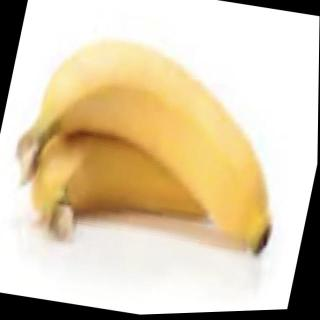banana: (16, 19, 313, 271), (20, 114, 232, 272)
